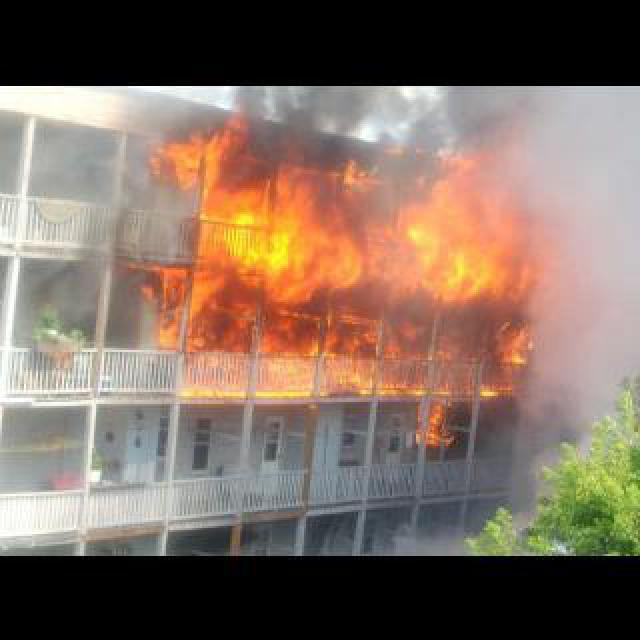Fire: (176, 162, 530, 304), (158, 328, 538, 404), (146, 114, 244, 184), (414, 392, 470, 458)
Smoke: (20, 86, 166, 334), (504, 256, 634, 520), (242, 84, 500, 156), (298, 284, 532, 338), (374, 516, 488, 554)
